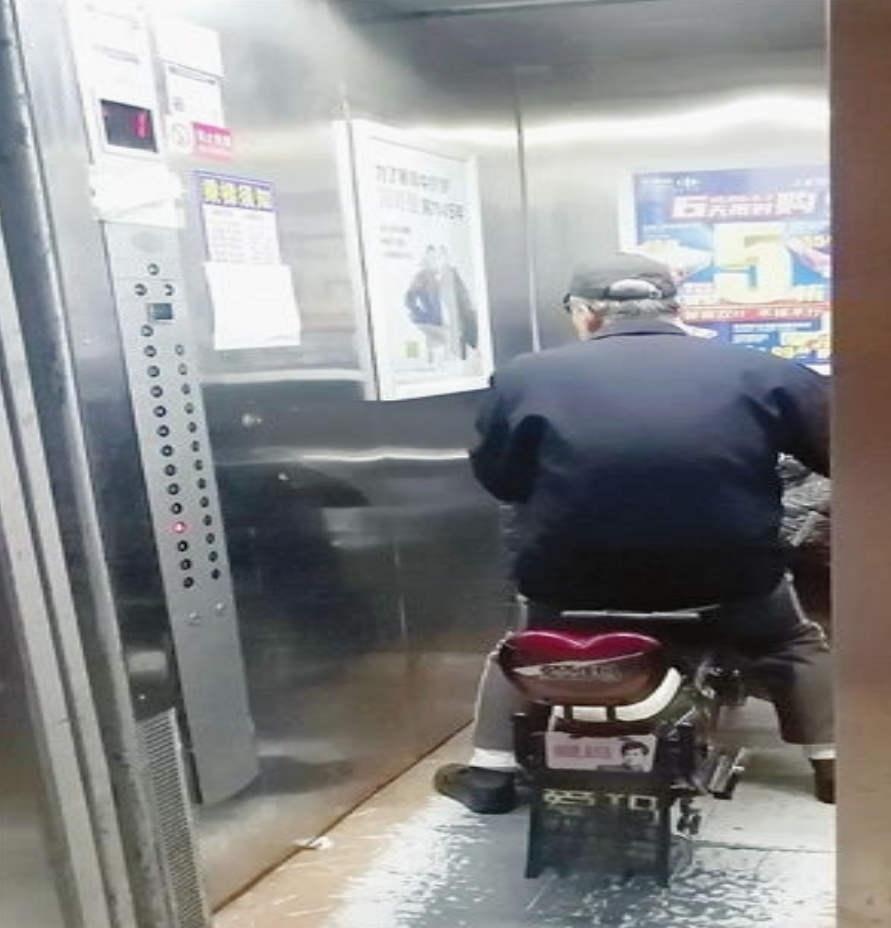ebike: (490, 605, 751, 882)
person: (431, 251, 826, 809)
